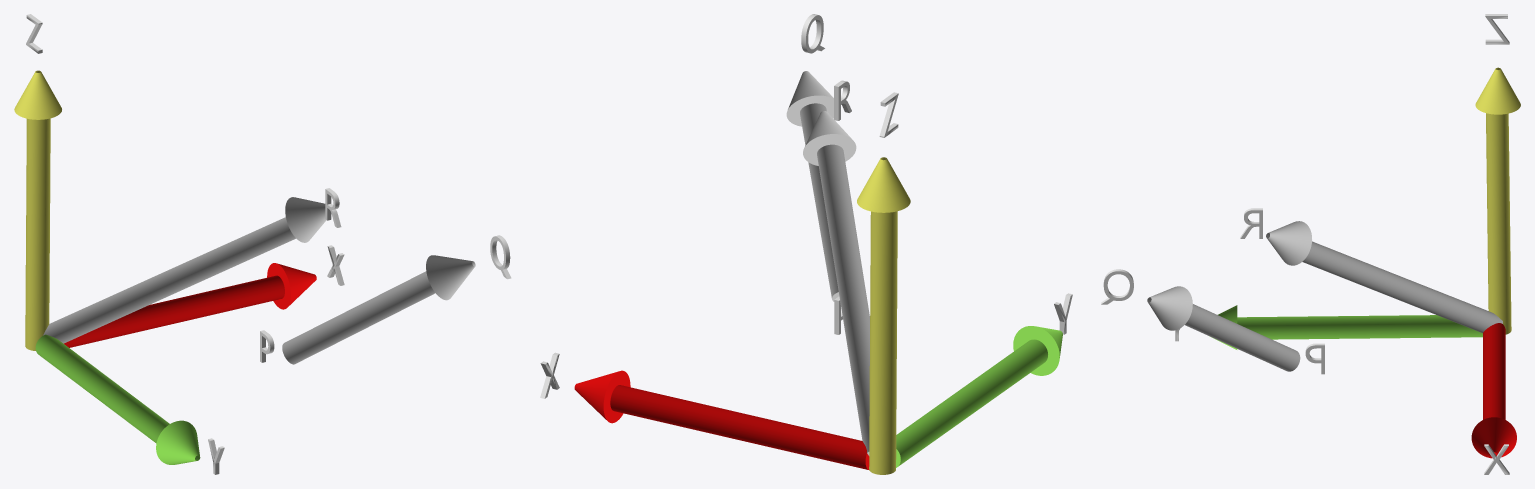
3 views of the same model, side by side, from view 1: azimuth 30°, elevation 25°; view 2: azimuth 150°, elevation 25°; view 3: azimuth 270°, elevation 25° (orthographic). The views are drawn at different scales.
Parts seen in each view (by area): view 1: Cylinder.4, Cylinder.2, Cylinder, Cylinder.3, Cylinder.1, Cone.1, Cone.3, Cone.2, Cone.4, Cone; view 2: Cylinder.2, Cylinder, Cylinder.4, Cylinder.1, Cone.2, Cylinder.3, Cone, Cone.4, Cone.3, Cone.1; view 3: Cylinder.1, Cylinder.2, Cylinder.4, Cylinder.3, Cylinder, Cone.3, Cone.4, Cone, Cone.2.
Boxes of the visible parts, bbox=[...] form: Cylinder.4: bbox=[43, 217, 295, 343]; Cylinder.2: bbox=[25, 118, 50, 350]; Cylinder: bbox=[64, 275, 284, 347]; Cylinder.3: bbox=[282, 271, 435, 364]; Cylinder.1: bbox=[35, 334, 169, 443]; Cone.1: bbox=[156, 420, 200, 464]; Cone.3: bbox=[426, 255, 475, 300]; Cone.2: bbox=[14, 70, 61, 119]; Cone.4: bbox=[285, 197, 326, 242]; Cone: bbox=[267, 263, 316, 309]; Cylinder.2: bbox=[869, 211, 897, 474]; Cylinder: bbox=[610, 385, 869, 469]; Cylinder.4: bbox=[817, 144, 869, 455]; Cylinder.1: bbox=[896, 339, 1047, 467]; Cone.2: bbox=[857, 157, 910, 212]; Cylinder.3: bbox=[800, 103, 839, 301]; Cone: bbox=[574, 370, 630, 423]; Cone.4: bbox=[803, 111, 856, 165]; Cone.3: bbox=[786, 71, 833, 126]; Cone.1: bbox=[1013, 326, 1062, 375]; Cylinder.1: bbox=[1237, 315, 1482, 339]; Cylinder.2: bbox=[1486, 113, 1511, 334]; Cylinder.4: bbox=[1302, 241, 1502, 333]; Cylinder.3: bbox=[1185, 304, 1300, 371]; Cylinder: bbox=[1483, 323, 1505, 419]; Cone.3: bbox=[1147, 286, 1192, 330]; Cone.4: bbox=[1266, 221, 1311, 265]; Cone: bbox=[1471, 417, 1516, 458]; Cone.2: bbox=[1475, 67, 1520, 114].
Bounding box in the file's own units: 0.1543 × 0.1603 × 0.1845.
